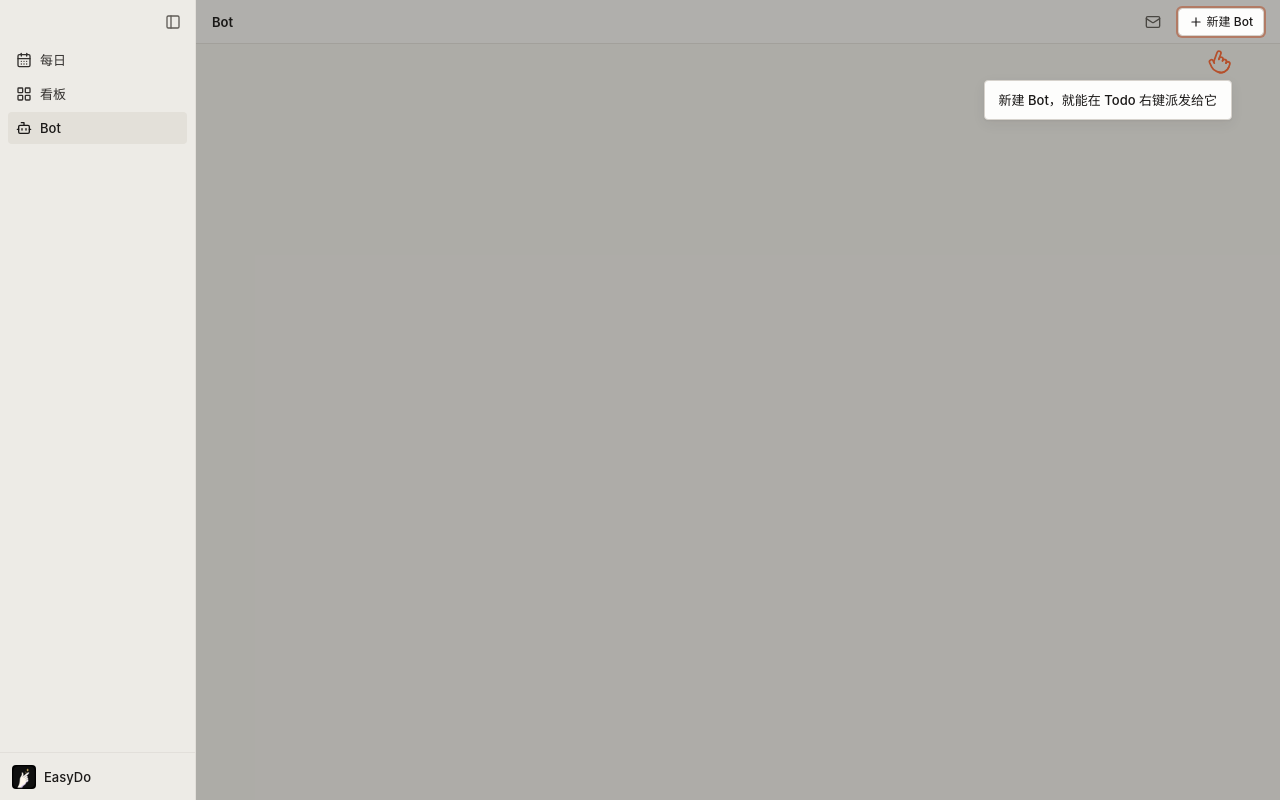
Test: BotsPage › 没有 Bot 时压暗页面，提示指向新建按钮，点提示也能新建
Click the button "新建 Bot，就能在 Todo 右键派发给它" at point(1108, 85), box [984,50,1232,120]
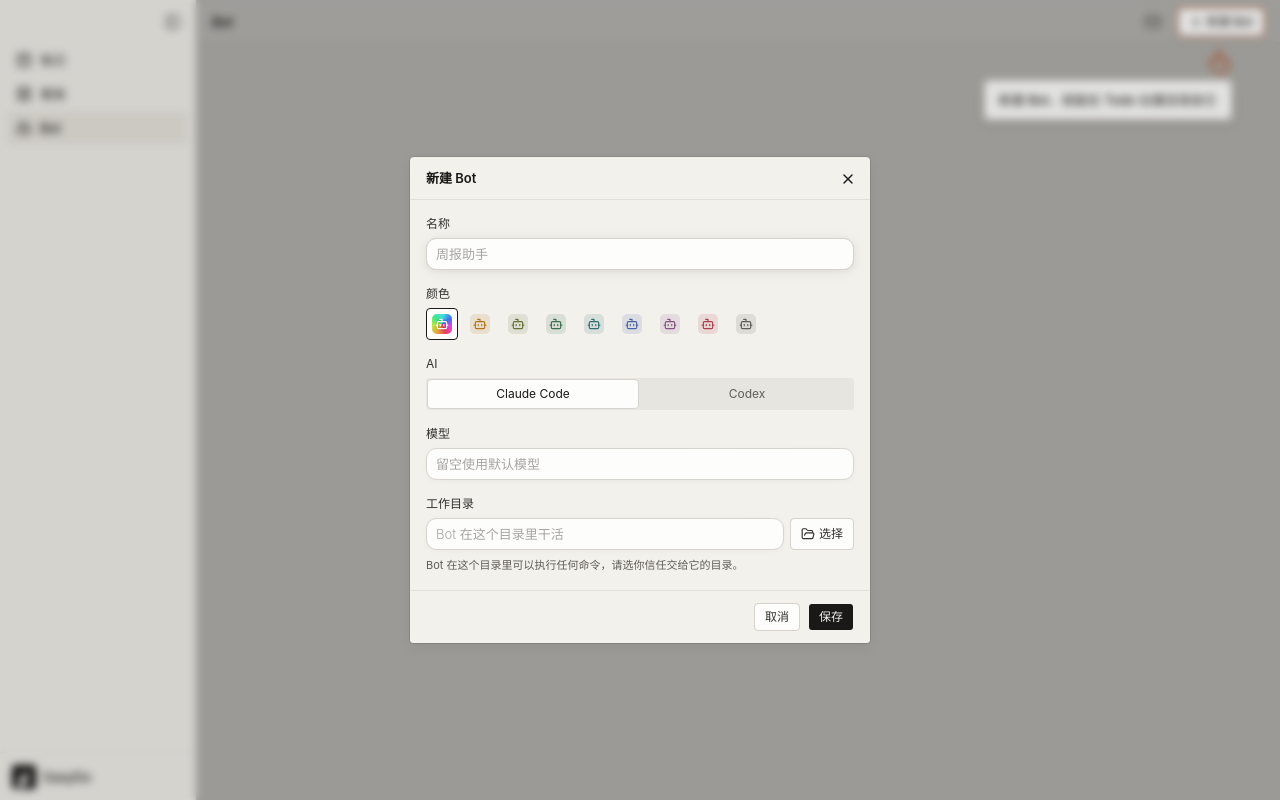
Expected: the dialog "新建 Bot" is shown, [410,157,870,643]
